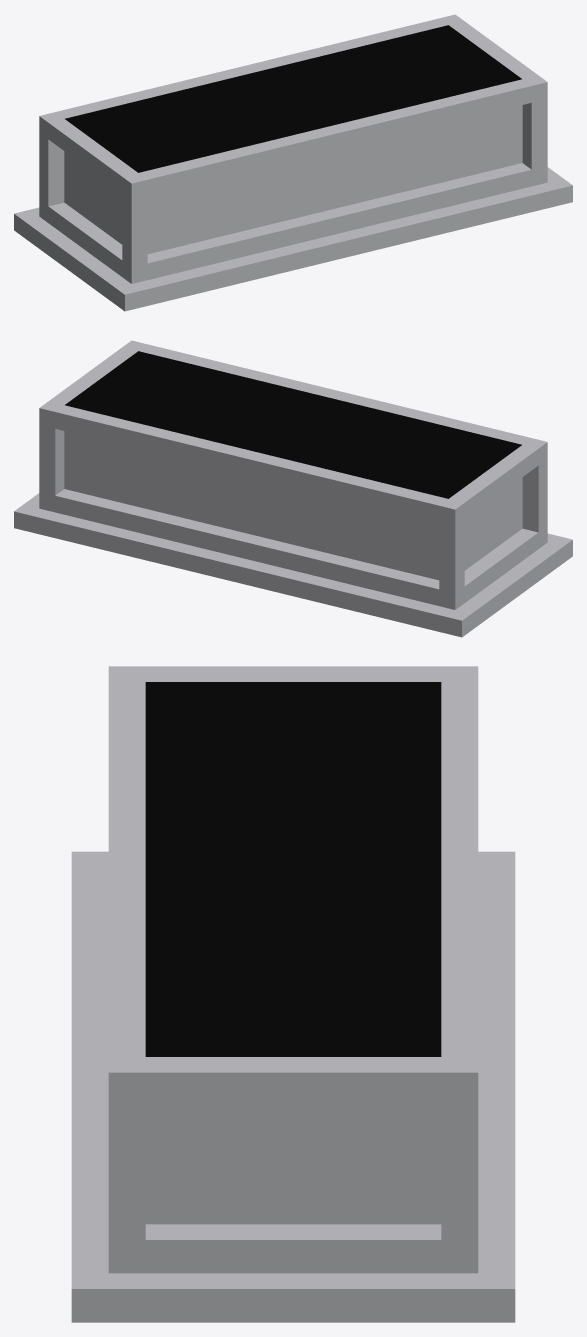
The model's file is tomb_d_a.obj.
The picture shows the model from 3 angles, top to bottom: view 1: azimuth 30°, elevation 25°; view 2: azimuth 150°, elevation 25°; view 3: azimuth 270°, elevation 25°; orthographic projection. The views are drawn at different scales.
Bounding box in the file's own units: 2.8 × 0.7 × 1.2.
Materials: 1 (1 with a texture image).
